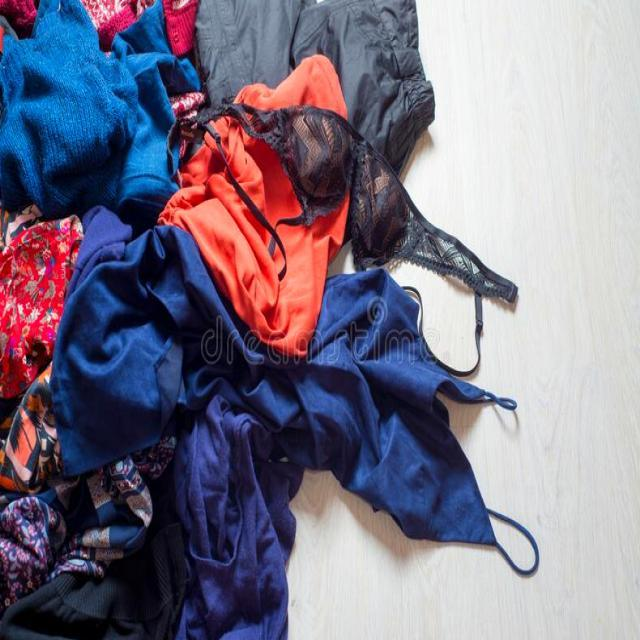clothes: (165, 78, 516, 398)
